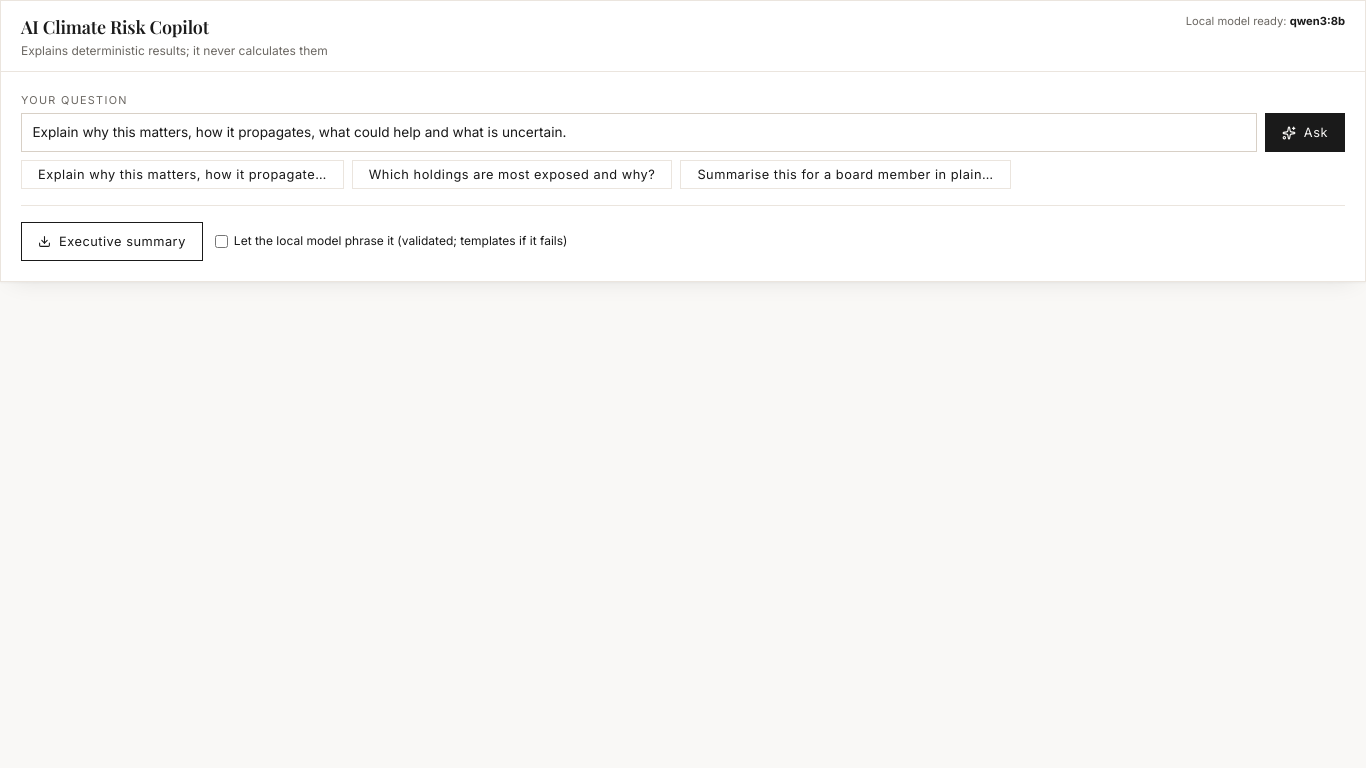
Test case: CopilotPanel › shows API errors with retry, and a timeout message
Step 1. Click the button "Ask" → coordinates (1305, 132), box left=1265, top=113, right=1345, bottom=152
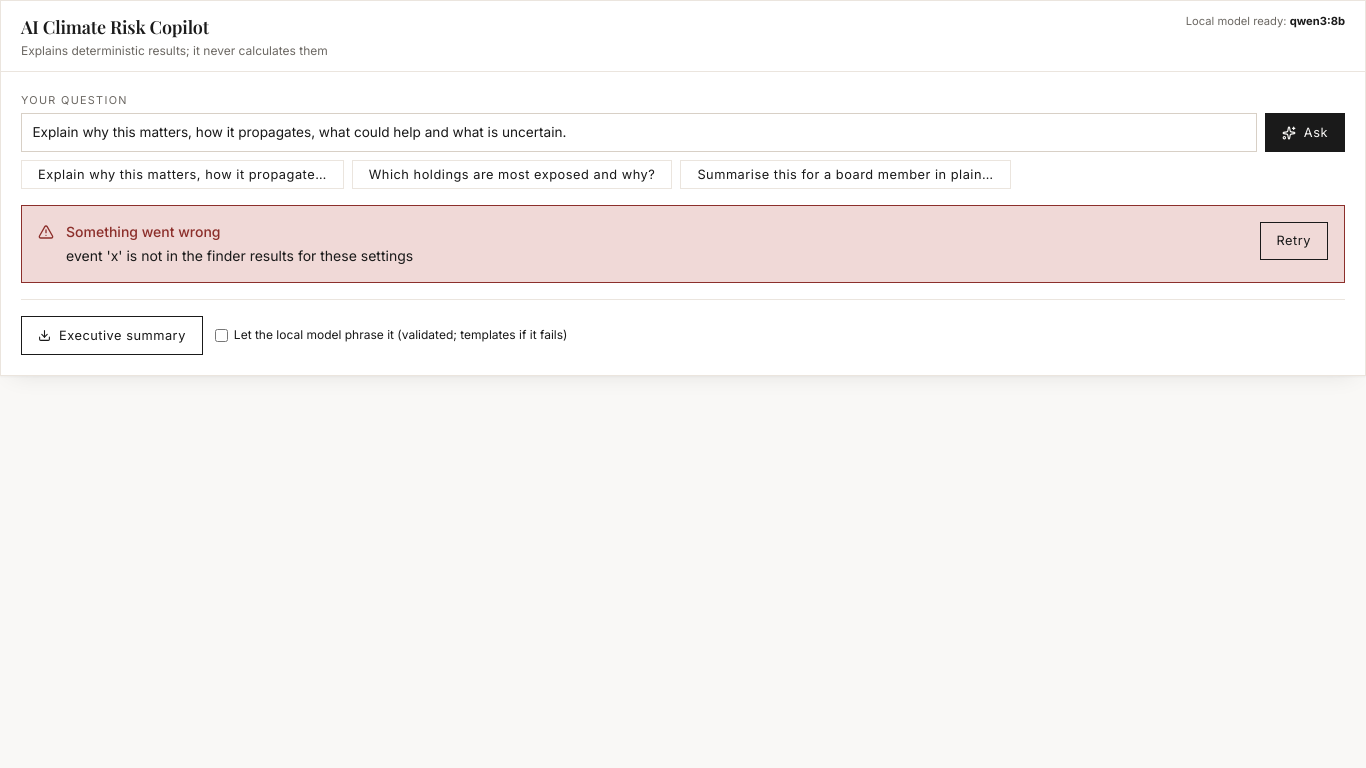
Result: the message shows "is not in the finder results" at left=66, top=247, right=413, bottom=264
Step 2. Click the button "Retry" → coordinates (1294, 241), box left=1260, top=222, right=1328, bottom=260
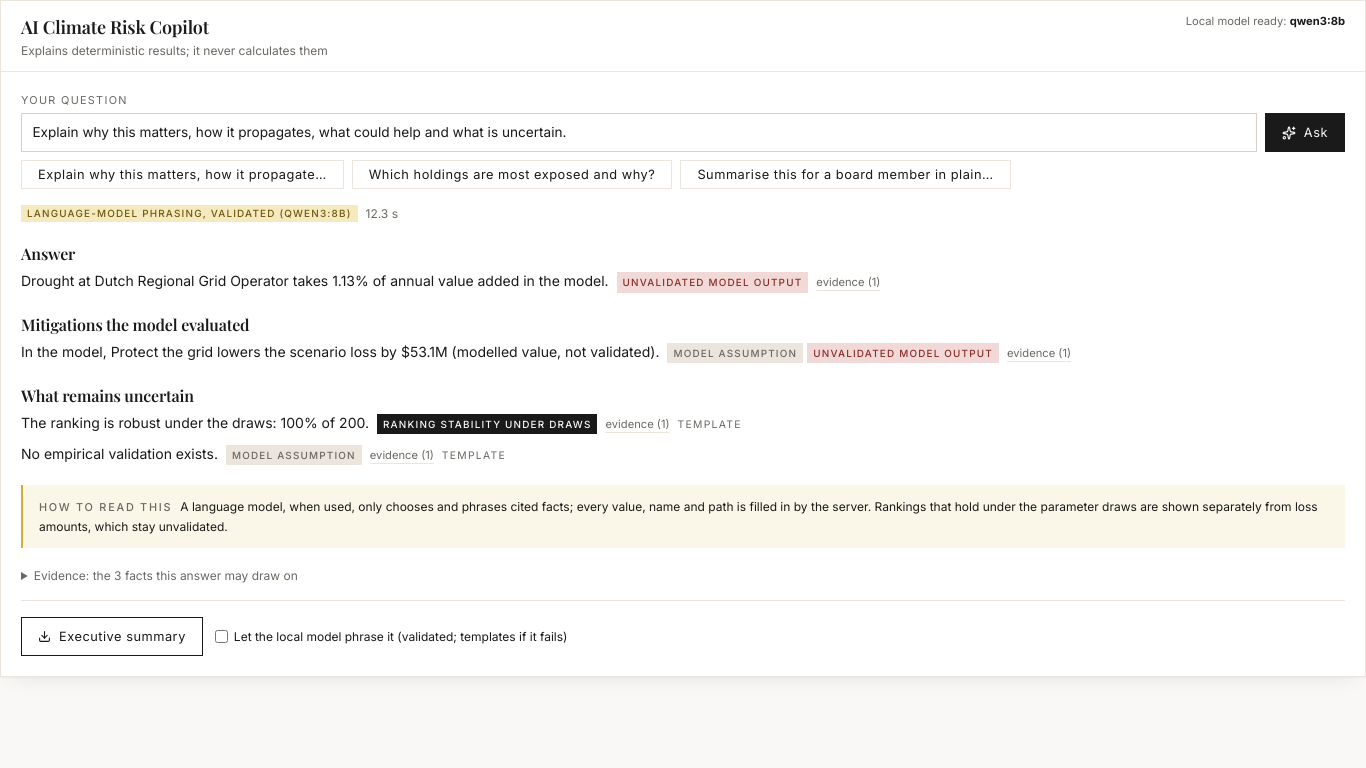
Result: the element with test id "copilot-answer" is shown at left=21, top=205, right=1345, bottom=584
